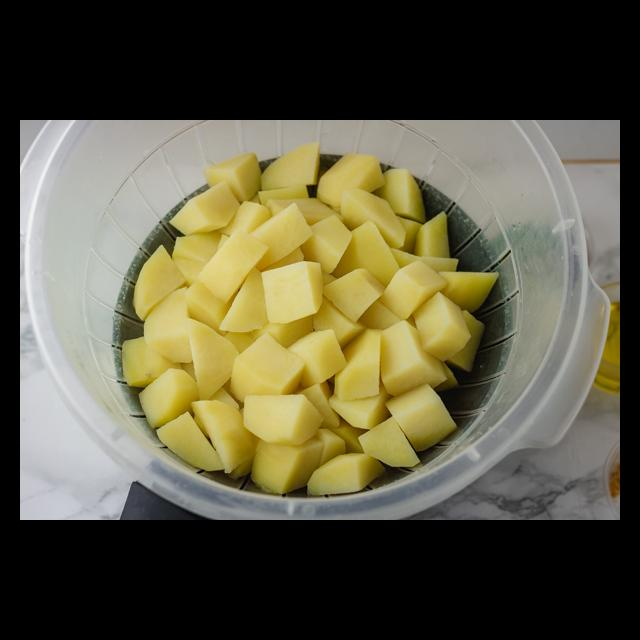potato: (129, 156, 491, 465)
